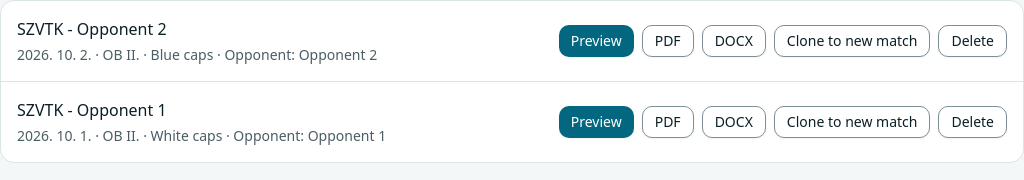
Scenario: SavedLineups › disables the downloads while one is running
Click the button with aria-label "Download SZVTK - Opponent 1 as PDF" at coordinates (668, 122), box x1=642 y1=106 x2=694 y2=138
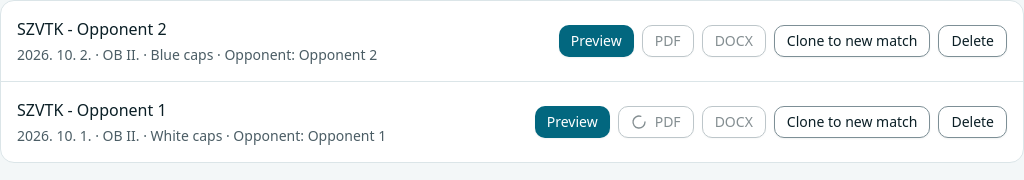
expect the button with aria-label "Download SZVTK - Opponent 2 as DOCX" is disabled: met, box x1=702 y1=25 x2=766 y2=57
